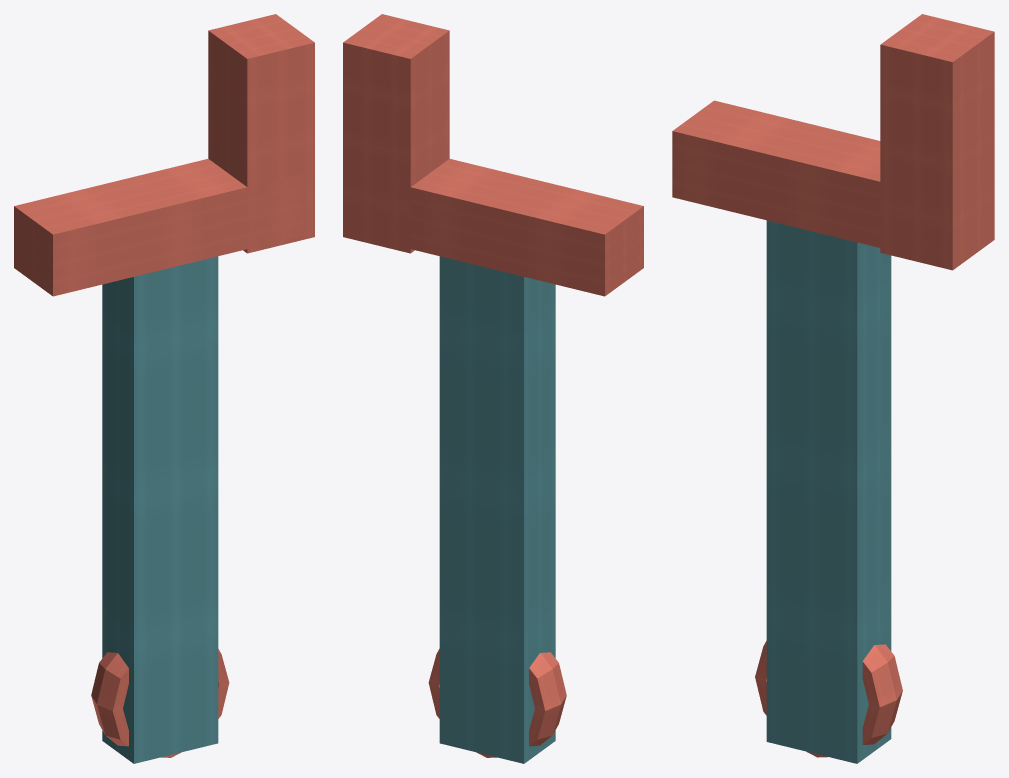
Rendered from atlas100-s072-a05.lod2.glb.
3 renders of one model, left to right at view 1: azimuth 30°, elevation 25°; view 2: azimuth 150°, elevation 25°; view 3: azimuth 330°, elevation 25°, orthographic. The views are drawn at different scales.
Parts seen in each view (by area): view 1: atlas100-s072-a05:part-000, atlas100-s072-a05:part-003, atlas100-s072-a05:part-002, atlas100-s072-a05:part-004; view 2: atlas100-s072-a05:part-000, atlas100-s072-a05:part-003, atlas100-s072-a05:part-002, atlas100-s072-a05:part-004; view 3: atlas100-s072-a05:part-000, atlas100-s072-a05:part-002, atlas100-s072-a05:part-003, atlas100-s072-a05:part-004.
Part boxes in pixels (x1,y1,x2,y2): atlas100-s072-a05:part-000: (102, 256, 218, 763); atlas100-s072-a05:part-003: (14, 158, 306, 296); atlas100-s072-a05:part-002: (208, 14, 314, 253); atlas100-s072-a05:part-004: (91, 649, 229, 757); atlas100-s072-a05:part-000: (439, 256, 555, 763); atlas100-s072-a05:part-003: (351, 158, 643, 296); atlas100-s072-a05:part-002: (343, 14, 449, 253); atlas100-s072-a05:part-004: (428, 649, 566, 757); atlas100-s072-a05:part-000: (766, 220, 891, 763); atlas100-s072-a05:part-002: (880, 14, 994, 270); atlas100-s072-a05:part-003: (672, 100, 943, 260); atlas100-s072-a05:part-004: (755, 641, 902, 757).
Bounding box in the file's own units: 0.3385 × 0.8572 × 0.0874.
Materials: 2 (2 with a texture image).
